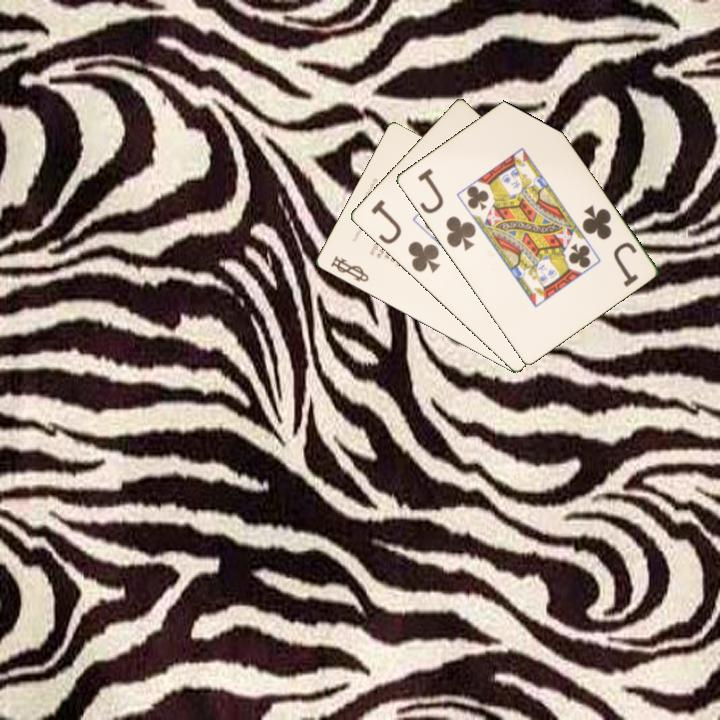JK: (327, 252, 371, 285)
Jc: (367, 196, 443, 276), (413, 165, 479, 254), (578, 201, 641, 290)
